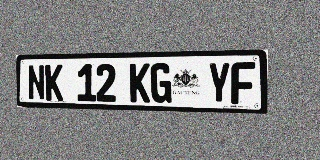1: (77, 64, 96, 101)
2: (96, 64, 116, 102)
F: (231, 62, 255, 105)
G: (151, 63, 172, 103)
K: (130, 63, 150, 103), (45, 64, 63, 101)
N: (27, 65, 45, 100)
Y: (207, 62, 230, 104)
